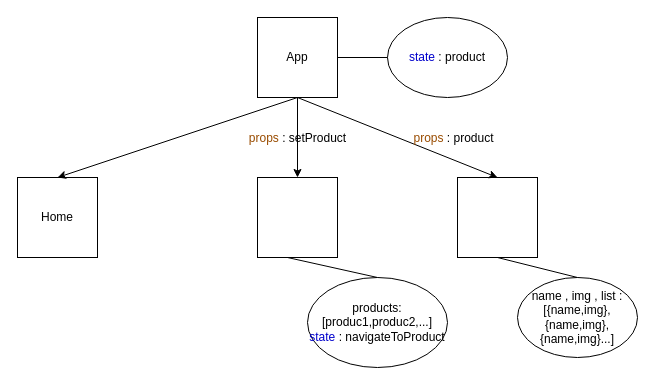
Some shapes in this 655 by 385 pixel diagram are drawn without their labels. The shapes that lost their labels are listed below. From the top down, each one's centre as x and y in pixels, then its label:
At pixel 297 217: "Products".
At pixel 497 217: "Product".
